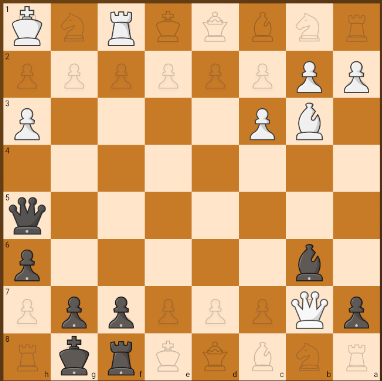bb: (289, 241, 329, 282)
bk: (53, 335, 98, 378)
bp: (7, 4, 47, 48), (337, 292, 377, 332), (8, 241, 46, 283), (100, 292, 138, 330), (60, 292, 91, 331)
bq: (6, 195, 48, 236)
br: (101, 335, 142, 378)
wb: (289, 101, 328, 143)
wp: (7, 103, 48, 144), (244, 102, 281, 142), (337, 57, 373, 96), (293, 55, 327, 95)
wq: (290, 288, 331, 332)
wr: (100, 5, 141, 49)
